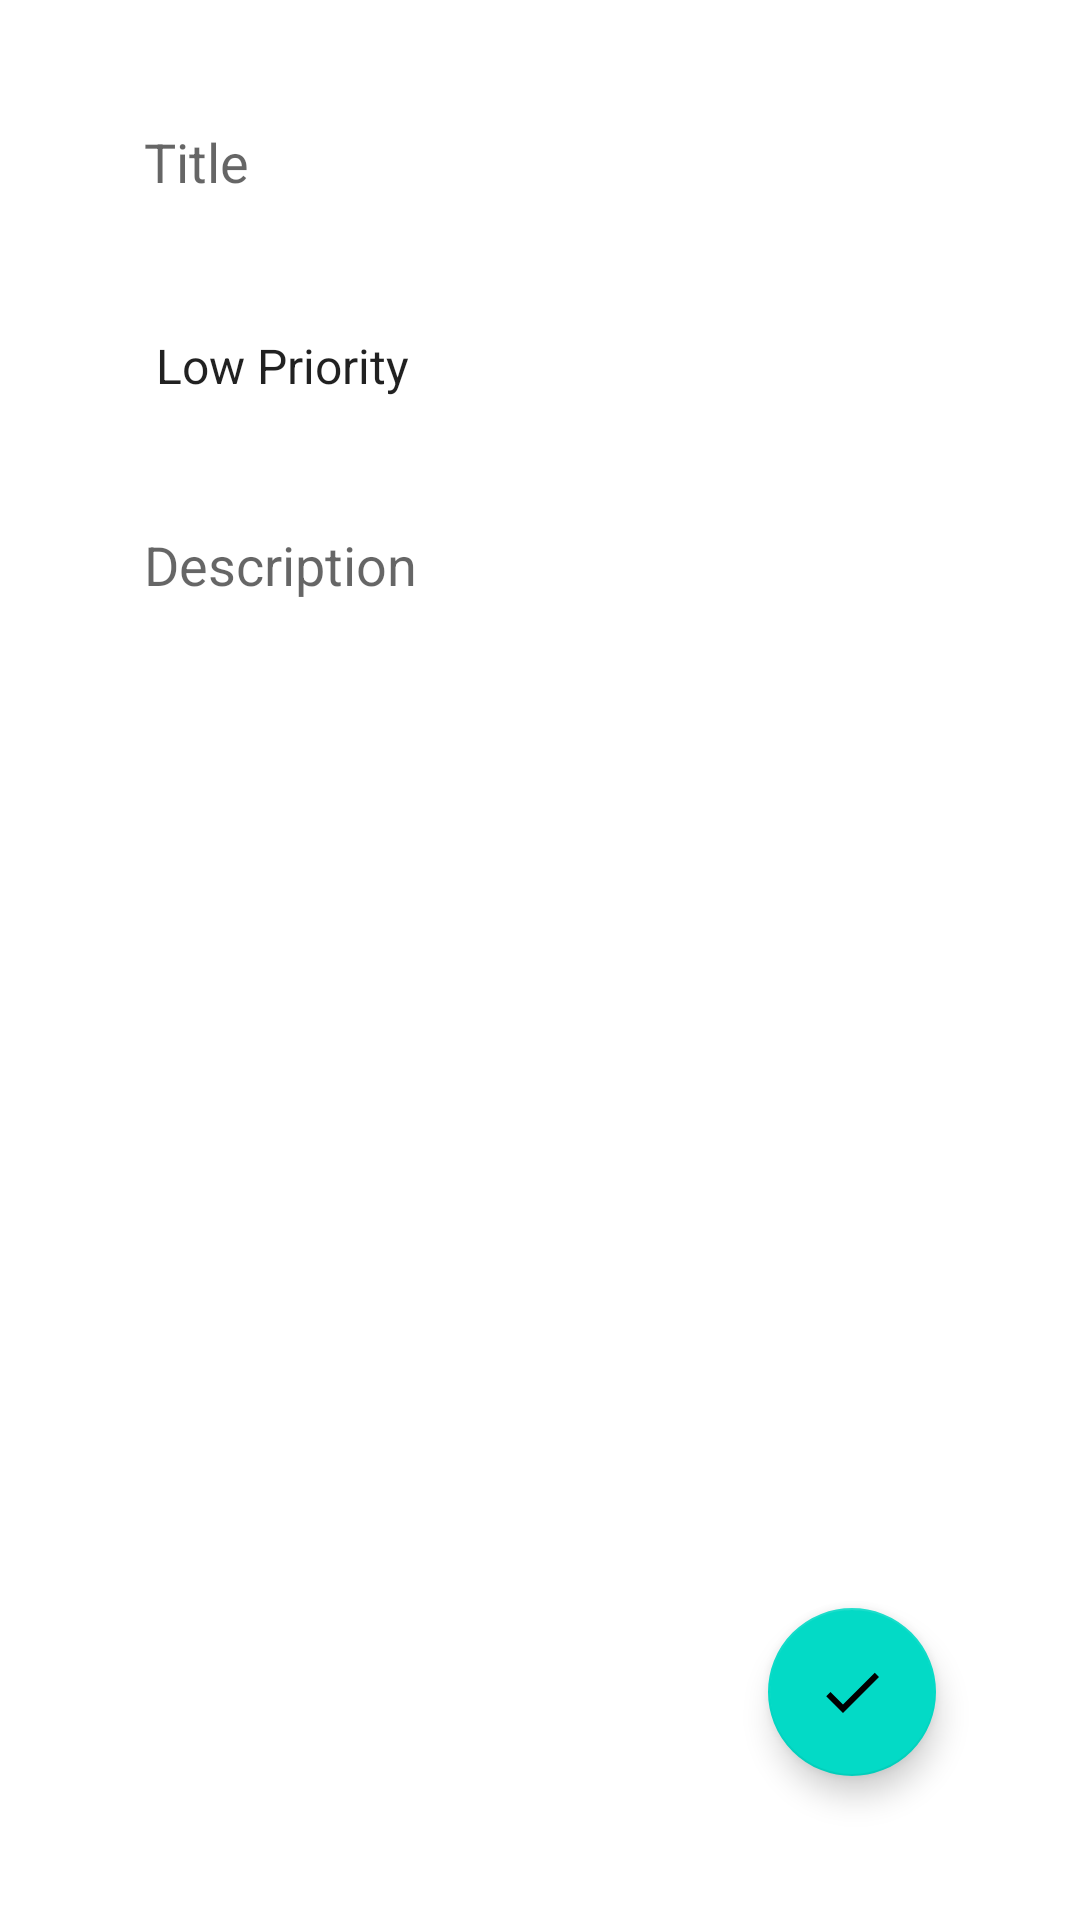

Icons on this 1080w x 1920h Android screen, each with the point to tap as (x,y):
check: (852,1692)
